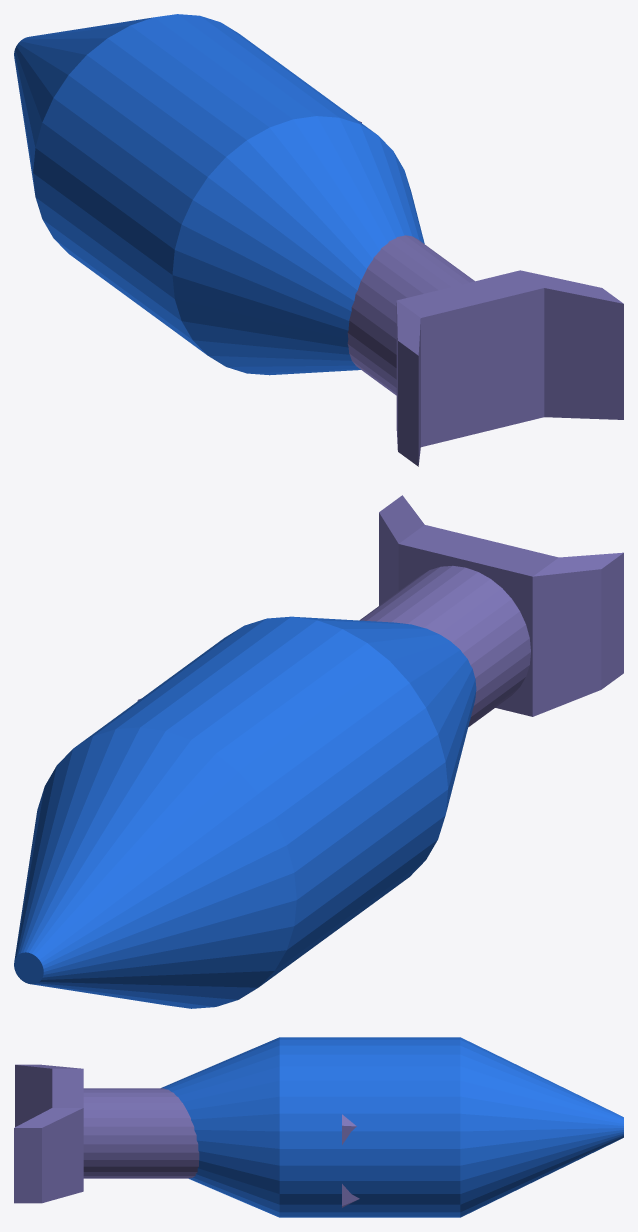
The model's file is arrowCrys.fbx.
3 renders of one model, top to bottom at view 1: azimuth 30°, elevation 25°; view 2: azimuth 150°, elevation 25°; view 3: azimuth 270°, elevation 25°, orthographic. The views are drawn at different scales.
Visible parts, largest first — view 1: arrow.001; view 2: arrow.001; view 3: arrow.001.
Part boxes in pixels (box(x1,y1,x2,y2)): arrow.001: box(14, 14, 623, 466); arrow.001: box(14, 495, 623, 1008); arrow.001: box(14, 1037, 623, 1217).
Bounding box in the file's own units: 25.23 × 24.68 × 83.26.
